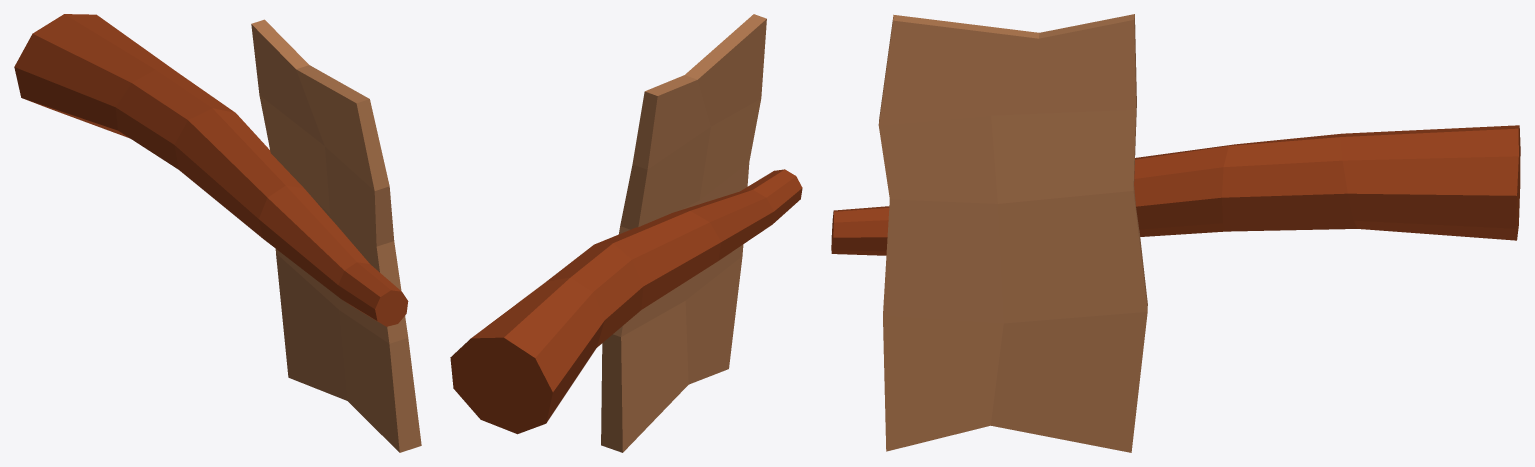
Rendered from main sign post.glb.
The picture shows the model from 3 angles, left to right: view 1: azimuth 30°, elevation 25°; view 2: azimuth 150°, elevation 25°; view 3: azimuth 270°, elevation 25°; orthographic projection. The views are drawn at different scales.
Visible parts, largest first — view 1: Pfosten3.001; view 2: Pfosten3.001; view 3: Pfosten3.001.
Part boxes in pixels (x1,y1,x2,y2): Pfosten3.001: (14, 14, 421, 452); Pfosten3.001: (450, 14, 802, 452); Pfosten3.001: (831, 14, 1520, 452).
Bounding box in the file's own units: 0.2928 × 0.7957 × 1.21.
